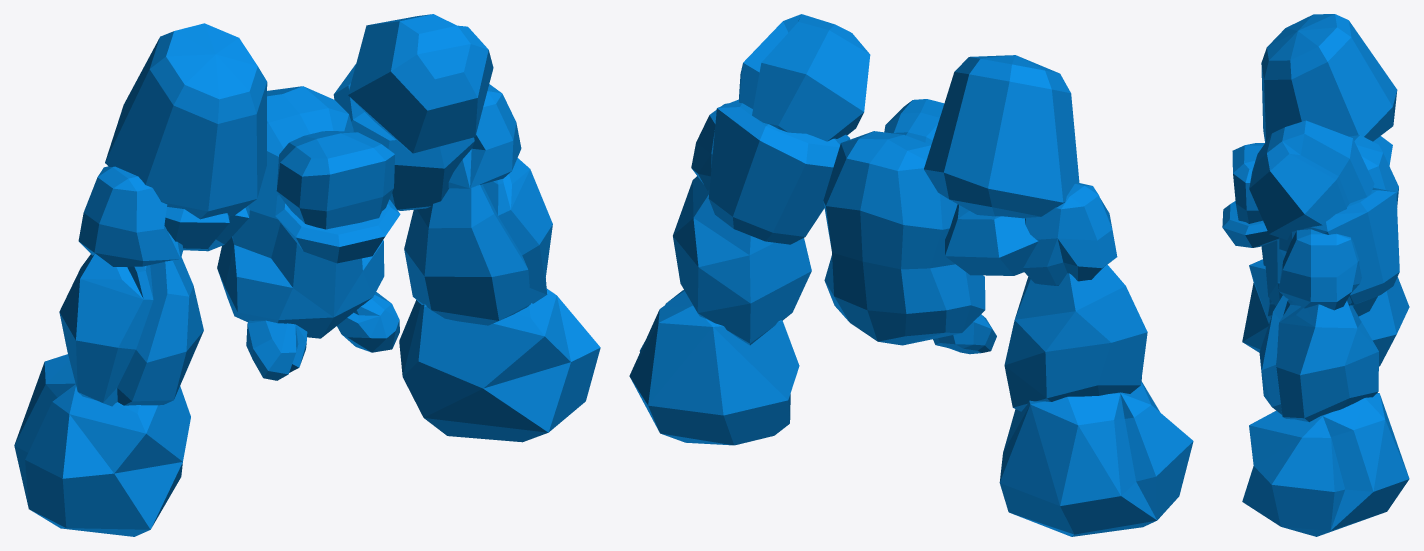
File: ENEMY_Basic.fbx
The picture shows the model from 3 angles, left to right: view 1: azimuth 30°, elevation 25°; view 2: azimuth 150°, elevation 25°; view 3: azimuth 270°, elevation 25°; orthographic projection. The views are drawn at different scales.
Visible parts, largest first — view 1: Shoulder_R.001, Arms_L.001, Arms_R.001, Arms_L_2.001, Body.001, Arms_R_3.001, Shoulder_L.002, Head.001, Arms_R_2.002, Shoulder_L_2.002, Arms_L_3.001, Jaw.001 (+3 smaller); view 2: Body.001, Arms_R.001, Shoulder_R.001, Arms_L.001, Arms_R_3.001, Shoulder_L_2.002, Arms_L_2.001, Shoulder_L.002, Arms_R_2.002, Shoulder_R_2.002, Head.001, Leg_R.002 (+1 smaller); view 3: Arms_L.001, Shoulder_R.001, Arms_L_2.001, Shoulder_L.002, Shoulder_L_2.002, Arms_L_3.001, Arms_R.001, Body.001, Head.001, Jaw.001, Shoulder_R_2.002.
Boxes of the visible parts, left/top/right/bottom form: Shoulder_R.001: left=105, top=23, right=267, bottom=219; Arms_L.001: left=399, top=288, right=600, bottom=442; Arms_R.001: left=14, top=354, right=190, bottom=536; Arms_L_2.001: left=404, top=158, right=552, bottom=325; Body.001: left=217, top=86, right=384, bottom=338; Arms_R_3.001: left=59, top=253, right=203, bottom=406; Shoulder_L.002: left=348, top=14, right=493, bottom=153; Head.001: left=276, top=131, right=394, bottom=229; Arms_R_2.002: left=78, top=166, right=183, bottom=266; Shoulder_L_2.002: left=333, top=64, right=474, bottom=210; Arms_L_3.001: left=448, top=84, right=521, bottom=188; Jaw.001: left=275, top=194, right=400, bottom=263; Body.001: left=823, top=131, right=985, bottom=345; Arms_R.001: left=999, top=381, right=1193, bottom=536; Shoulder_R.001: left=924, top=55, right=1079, bottom=218; Arms_L.001: left=629, top=290, right=799, bottom=445; Arms_R_3.001: left=1004, top=264, right=1147, bottom=411; Shoulder_L_2.002: left=708, top=99, right=850, bottom=244; Arms_L_2.001: left=673, top=176, right=811, bottom=345; Shoulder_L.002: left=739, top=14, right=870, bottom=141; Arms_R_2.002: left=1023, top=183, right=1117, bottom=285; Shoulder_R_2.002: left=945, top=204, right=1038, bottom=275; Head.001: left=884, top=99, right=944, bottom=144; Leg_R.002: left=933, top=314, right=996, bottom=354; Arms_L.001: left=1242, top=392, right=1409, bottom=536; Shoulder_R.001: left=1261, top=14, right=1397, bottom=142; Arms_L_2.001: left=1259, top=295, right=1378, bottom=422; Shoulder_L.002: left=1249, top=120, right=1374, bottom=239; Shoulder_L_2.002: left=1279, top=187, right=1399, bottom=305; Arms_L_3.001: left=1278, top=229, right=1361, bottom=310; Arms_R.001: left=1242, top=259, right=1409, bottom=366; Body.001: left=1264, top=135, right=1398, bottom=316; Head.001: left=1232, top=143, right=1264, bottom=223; Jaw.001: left=1222, top=201, right=1279, bottom=247; Shoulder_R_2.002: left=1373, top=136, right=1392, bottom=165.
Bounding box in the file's own units: 83.56 × 187 × 228.
